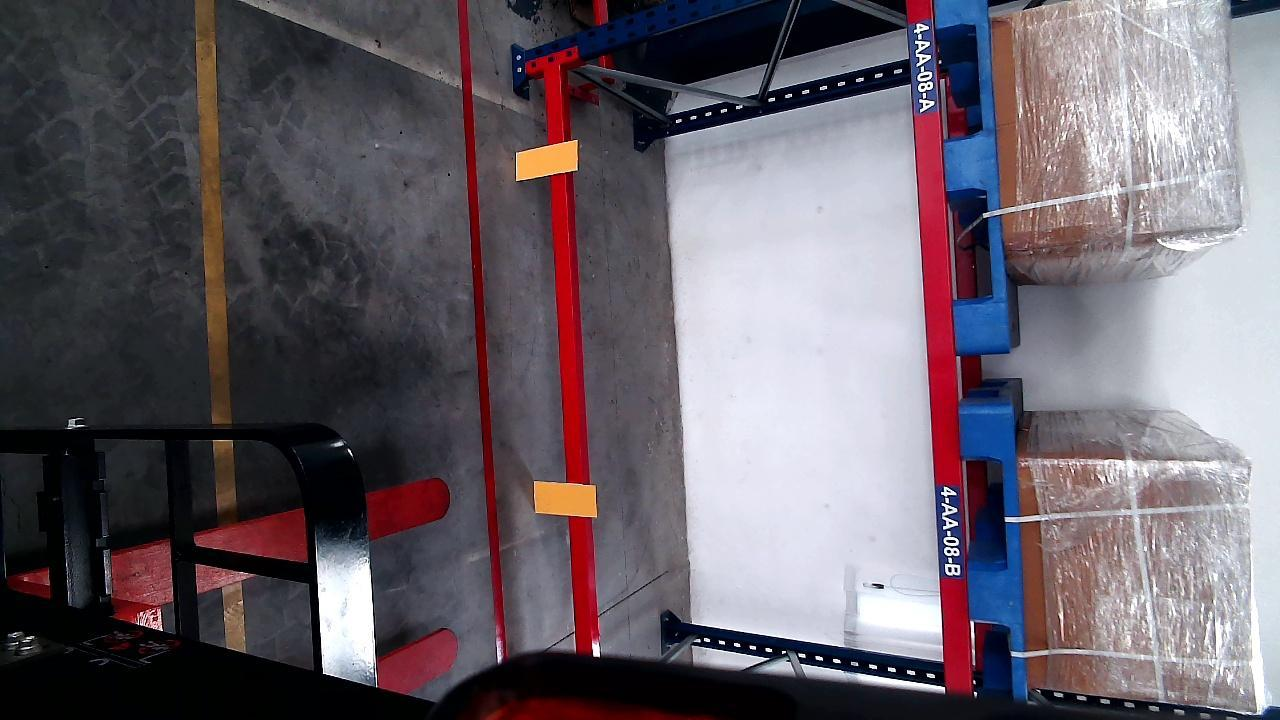red_line: (453, 0, 507, 659)
